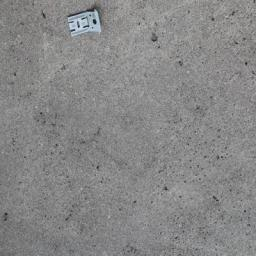FOD: (65, 9, 106, 40)
